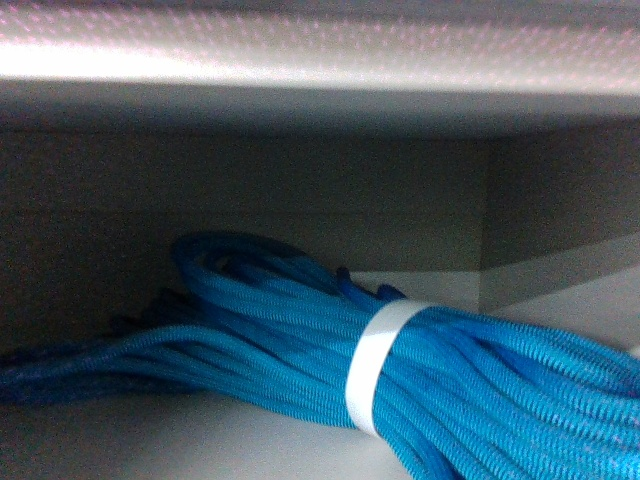rope: (10, 223, 638, 480)
